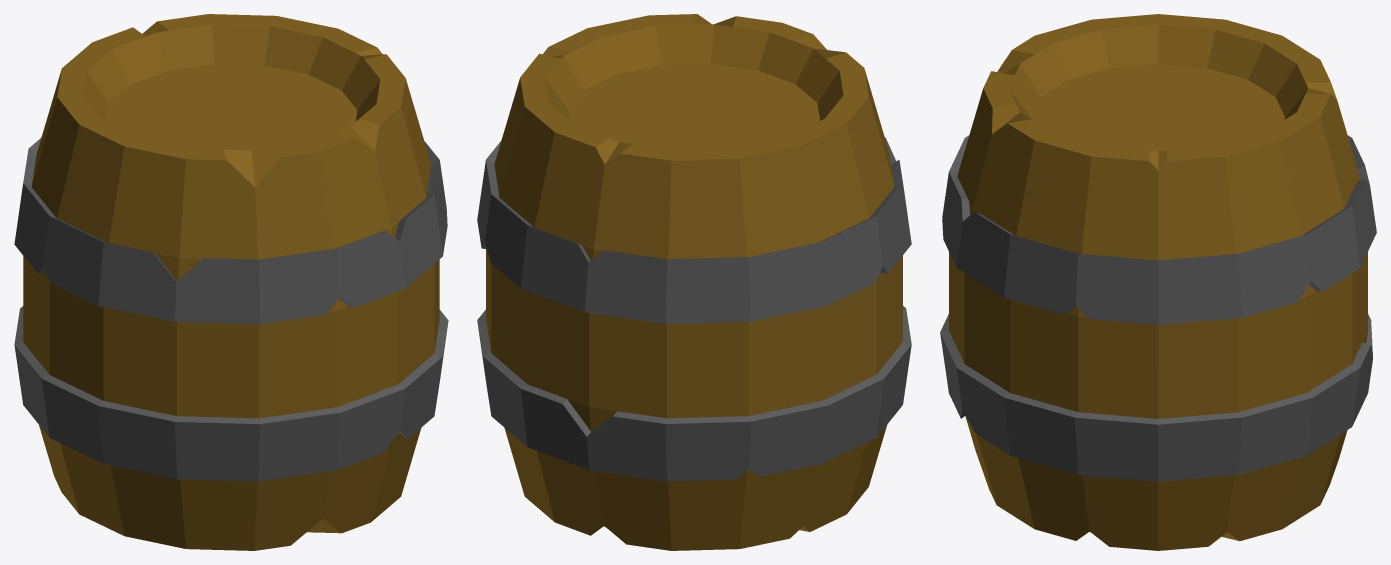
The model's file is Barrel 1.fbx.
The picture shows the model from 3 angles, left to right: view 1: azimuth 30°, elevation 25°; view 2: azimuth 150°, elevation 25°; view 3: azimuth 270°, elevation 25°; orthographic projection.
Visible parts, largest first — view 1: Cylinder, Cylinder.001; view 2: Cylinder, Cylinder.001; view 3: Cylinder, Cylinder.001.
Boxes of the visible parts, bbox=[...] form: Cylinder: bbox=[23, 14, 439, 550]; Cylinder.001: bbox=[14, 137, 448, 481]; Cylinder: bbox=[486, 14, 902, 550]; Cylinder.001: bbox=[477, 137, 911, 481]; Cylinder: bbox=[949, 14, 1367, 550]; Cylinder.001: bbox=[940, 135, 1376, 481].
Size of the model in its own units: 249 by 245 by 249.
